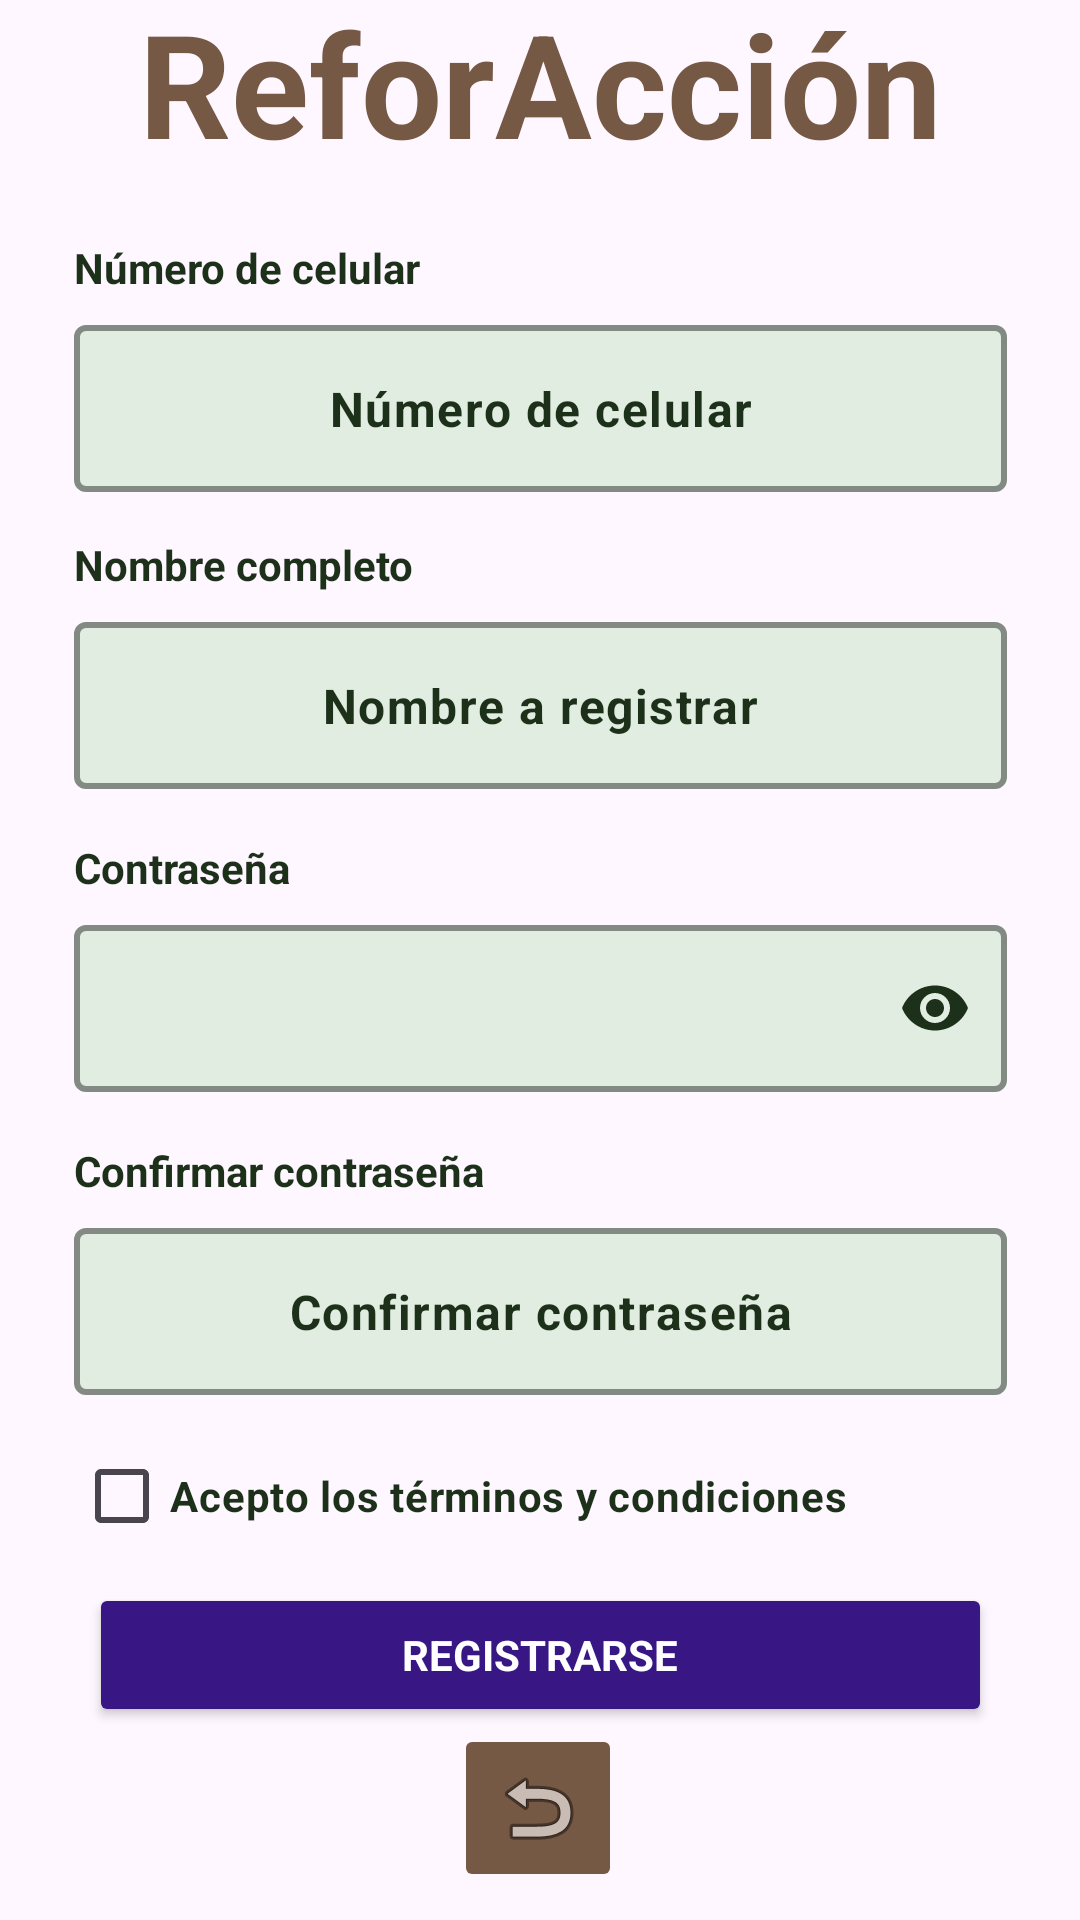

Where icons sit on this 1080 × 1920 app screen, as rect(x1, y1, x2, y2):
Retornar: rect(466, 1742, 610, 1874)
